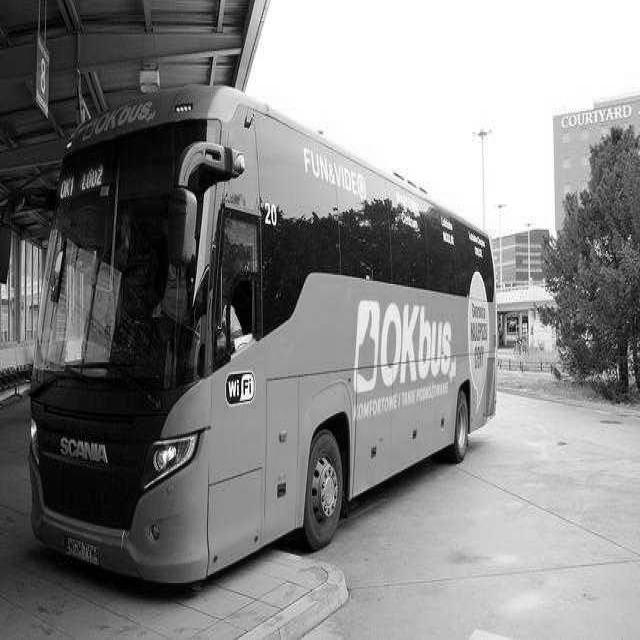Bus: (26, 85, 496, 583)
